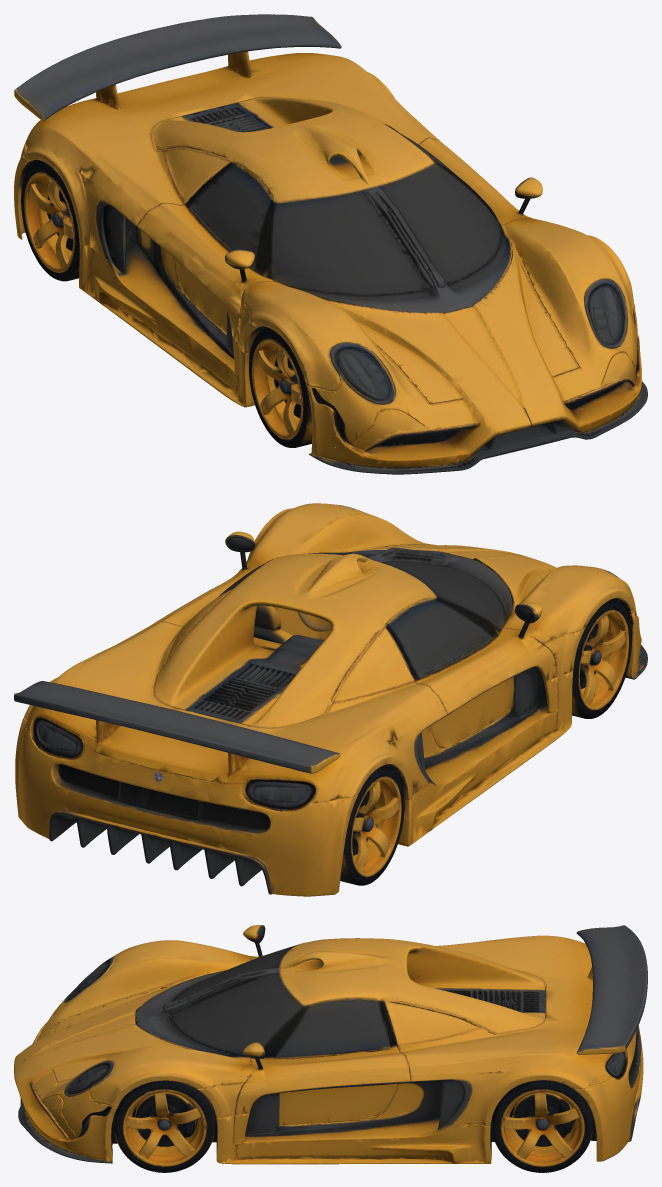
File: solaire.glb
3 renders of one model, top to bottom at view 1: azimuth 30°, elevation 25°; view 2: azimuth 150°, elevation 25°; view 3: azimuth 270°, elevation 25°, orthographic. The views are drawn at different scales.
Parts seen in each view (by area): view 1: tripo_node_21d13689-ef6c-46b8-aa8a-7167ff84ad2c; view 2: tripo_node_21d13689-ef6c-46b8-aa8a-7167ff84ad2c; view 3: tripo_node_21d13689-ef6c-46b8-aa8a-7167ff84ad2c.
Boxes of the visible parts, box(x1,y1,x2,y2) form: tripo_node_21d13689-ef6c-46b8-aa8a-7167ff84ad2c: box(14, 14, 647, 474); tripo_node_21d13689-ef6c-46b8-aa8a-7167ff84ad2c: box(14, 503, 647, 896); tripo_node_21d13689-ef6c-46b8-aa8a-7167ff84ad2c: box(14, 925, 647, 1172).
Size of the model in its own units: 0.4975 by 0.2664 by 0.9797.
Materials: 1 (1 with a texture image).
